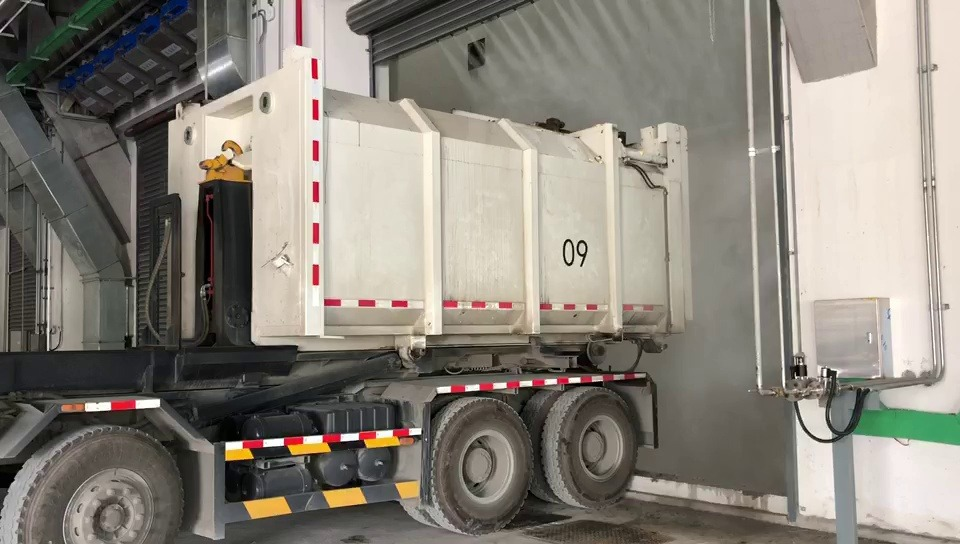truck: (0, 40, 692, 544)
